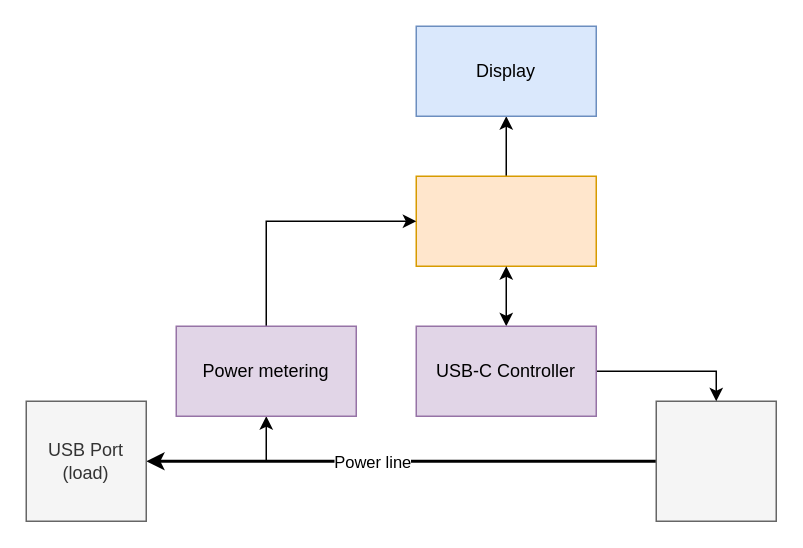
Image size: 803x548. Some labels were removed from this diagram. Each missing label, with the centre of its shape:
ATmega328p (µC): [505,220]
USB-C PD (Power input): [715,460]
